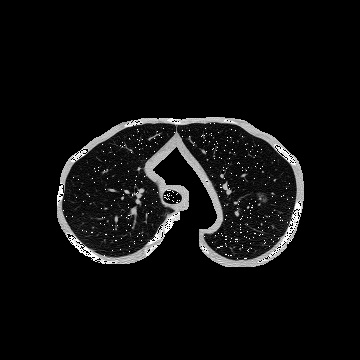PN: (257, 192, 267, 202)
